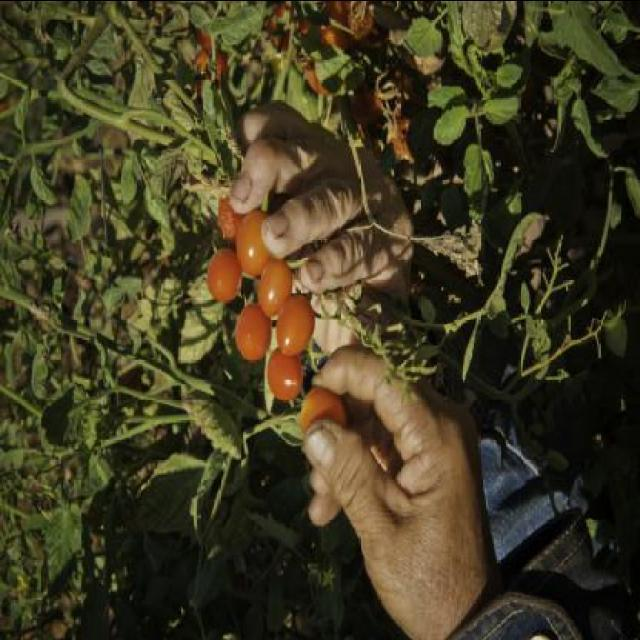Tomato: (264, 1, 352, 96), (274, 289, 316, 357), (236, 210, 270, 276), (205, 244, 241, 306), (300, 387, 346, 435), (266, 348, 302, 404), (236, 302, 272, 358), (260, 256, 291, 314), (218, 197, 242, 243), (195, 28, 217, 52), (194, 46, 208, 70)
